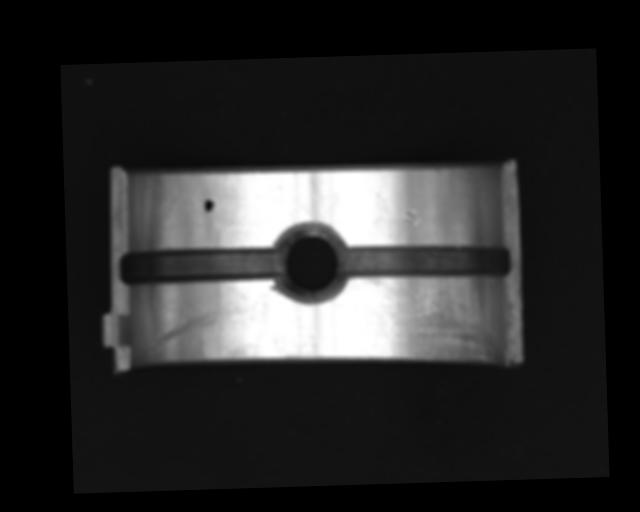blot: (203, 198, 215, 214)
bruise: (402, 207, 421, 226)
gap: (340, 241, 514, 285), (118, 245, 282, 286)
hole: (269, 224, 350, 303)
nick: (146, 296, 257, 357)
scratch: (367, 273, 497, 367)
